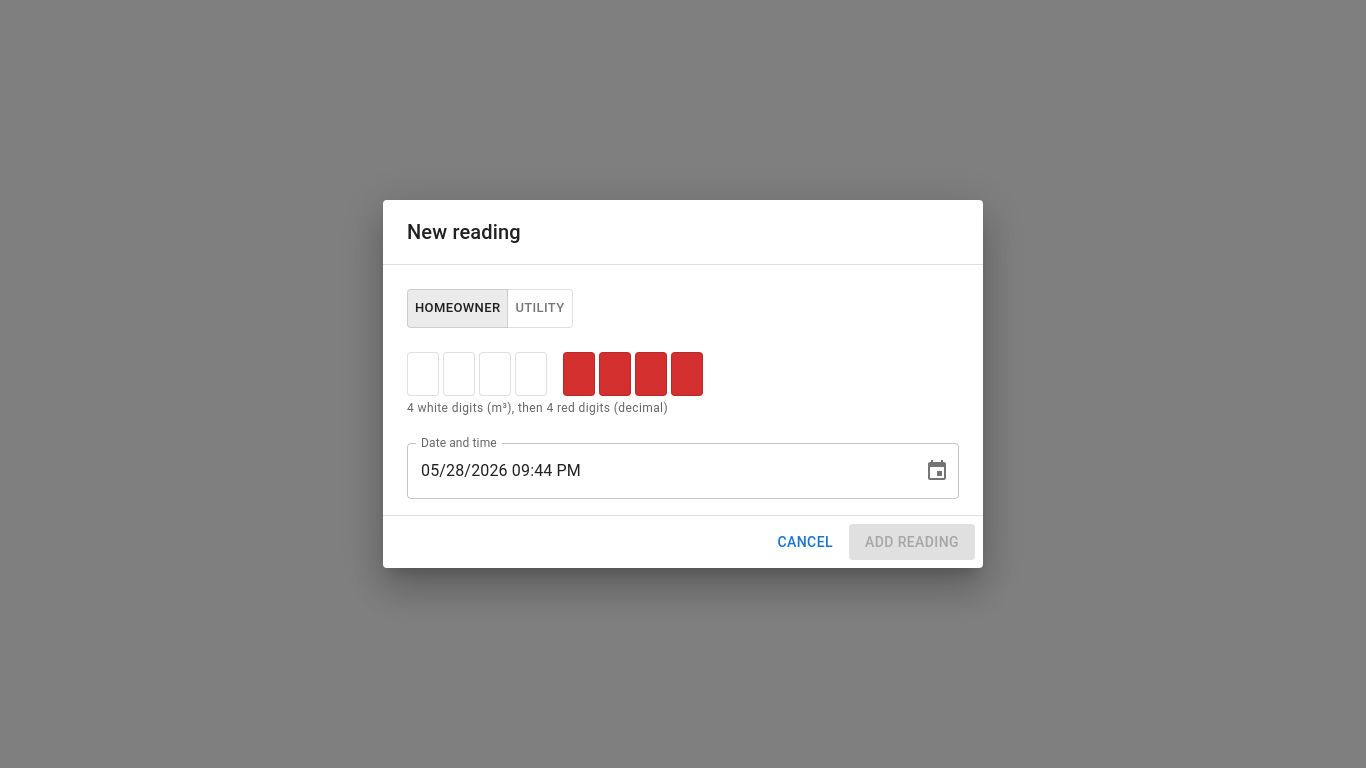
Test: Estimated toggle is hidden for homeowner reads and shown for utility
The image size is (1366, 768).
Expected: the button "estimated" is not shown
Click the button "Utility" at (540, 308), box [507,289,572,328]
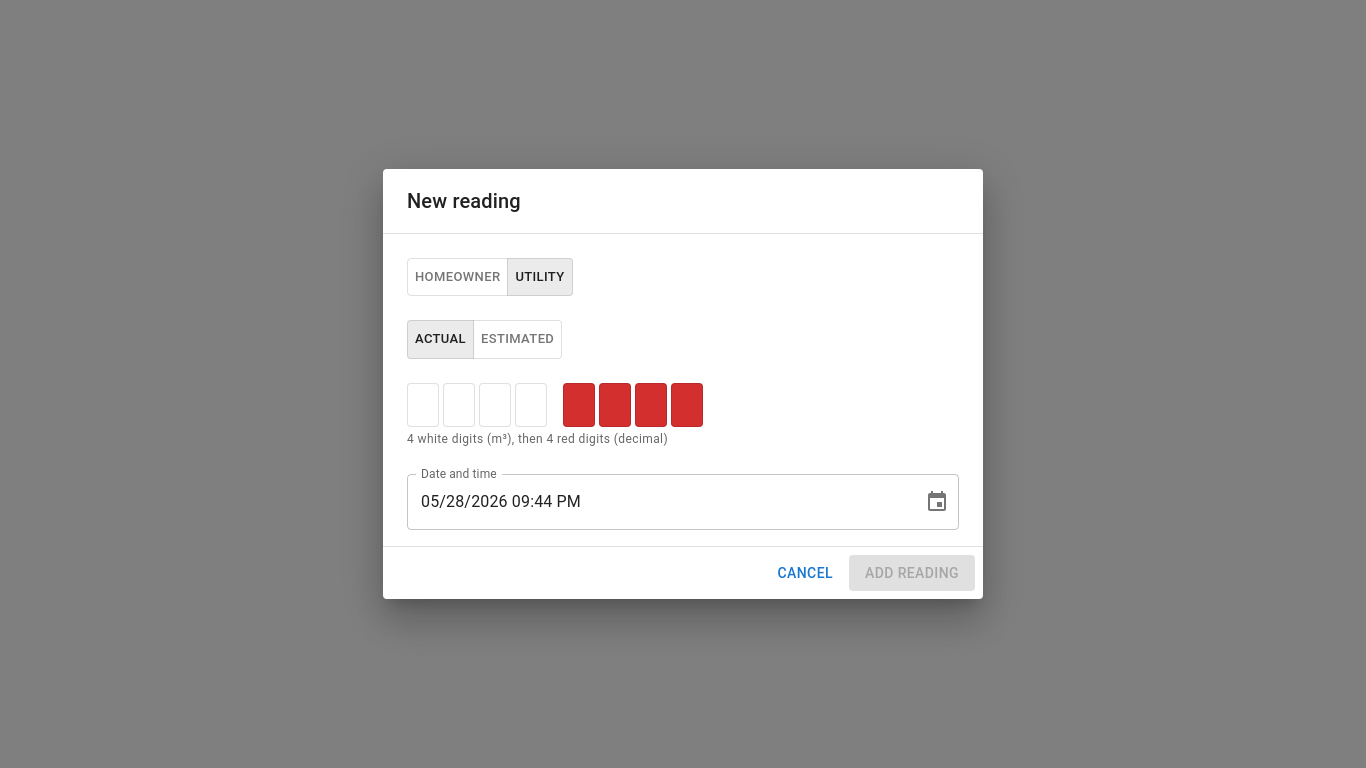
Expected: the button "Actual" is shown, [407,320,474,359]
Expected: the button "Estimated" is shown, [473,320,562,359]
